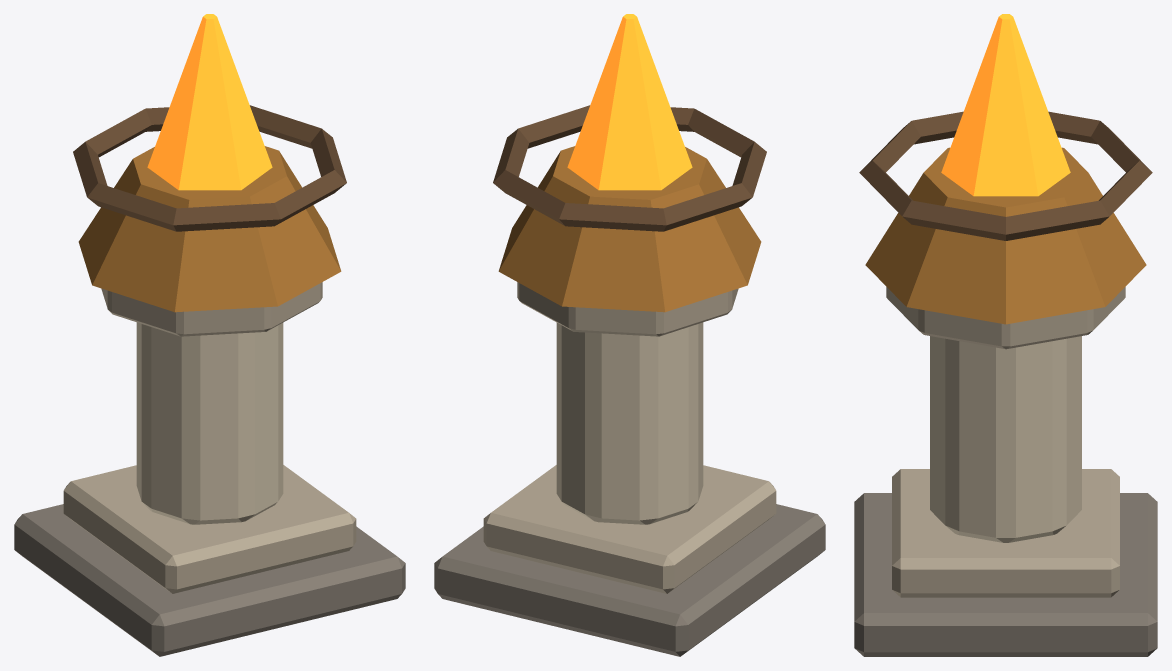
3 views of the same model, side by side, from view 1: azimuth 30°, elevation 25°; view 2: azimuth 150°, elevation 25°; view 3: azimuth 270°, elevation 25° (orthographic). The views are drawn at different scales.
Parts seen in each view (by area): view 1: WK_StonePedestalBrazier_LOD2_Compact; view 2: WK_StonePedestalBrazier_LOD2_Compact; view 3: WK_StonePedestalBrazier_LOD2_Compact.
Part boxes in pixels (x1,y1,x2,y2): WK_StonePedestalBrazier_LOD2_Compact: [14, 14, 405, 656]; WK_StonePedestalBrazier_LOD2_Compact: [434, 14, 825, 656]; WK_StonePedestalBrazier_LOD2_Compact: [854, 14, 1157, 656].
Size of the model in its own units: 1.25 by 2.64 by 1.25.
